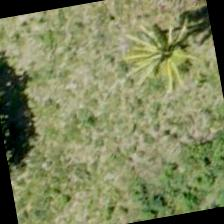Kelapa_Sawit: (122, 7, 222, 111)
